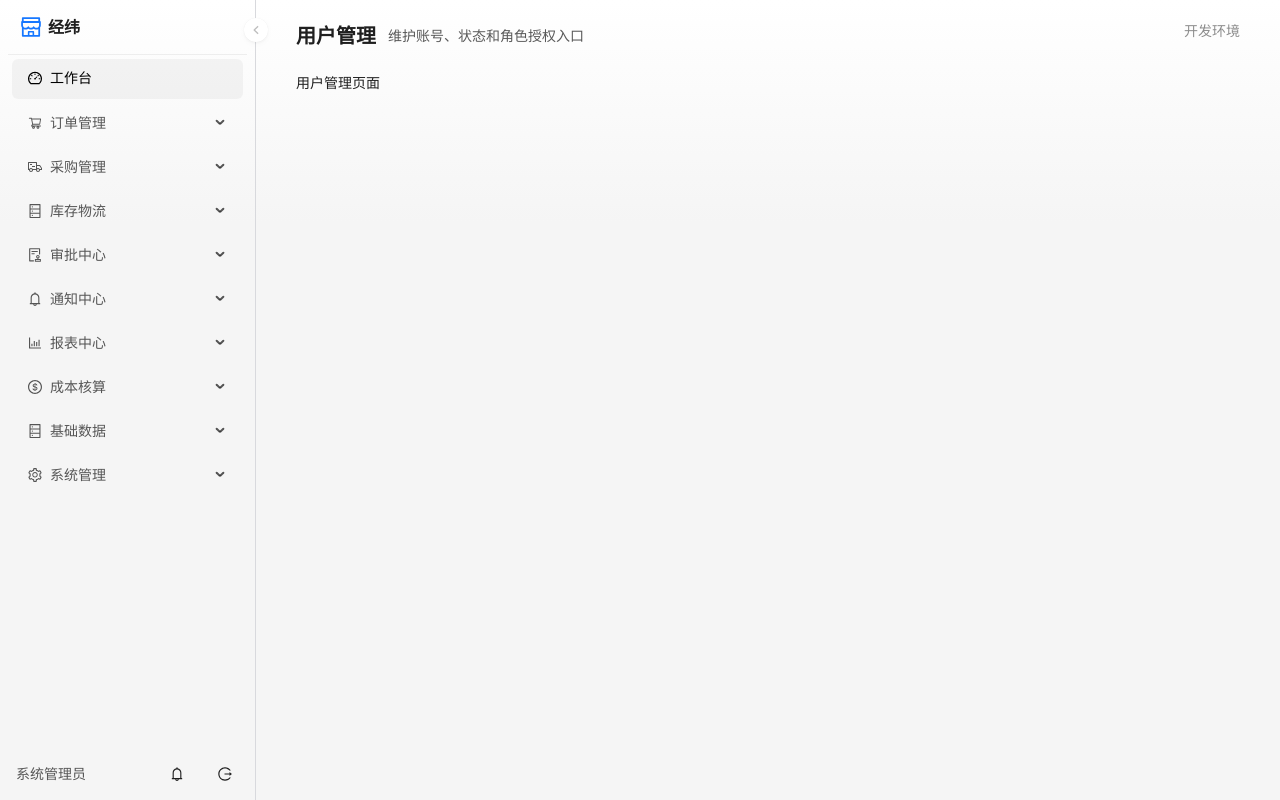
Test case: DashboardLayout › shows the system user menu from fallback when backend menu tree is empty
Click the menu item "系统管理": click(67, 474) [28,466,106,483]
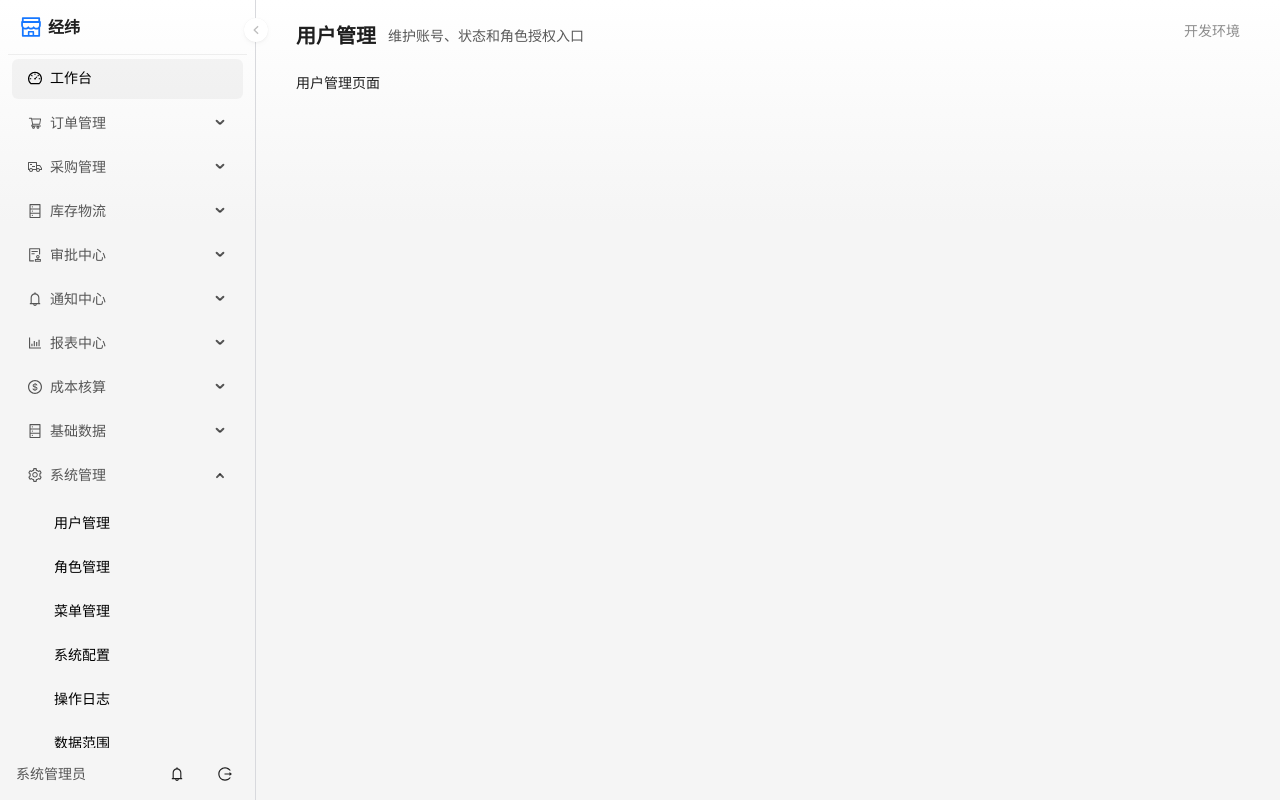
Expected: the text "用户管理页面" is shown, [296,74,380,91]
Expected: the text "用户管理" is shown 2 times, [54,514,110,531]; [296,20,376,52]
